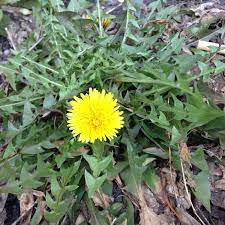dandelion yellow: (65, 86, 125, 143)
